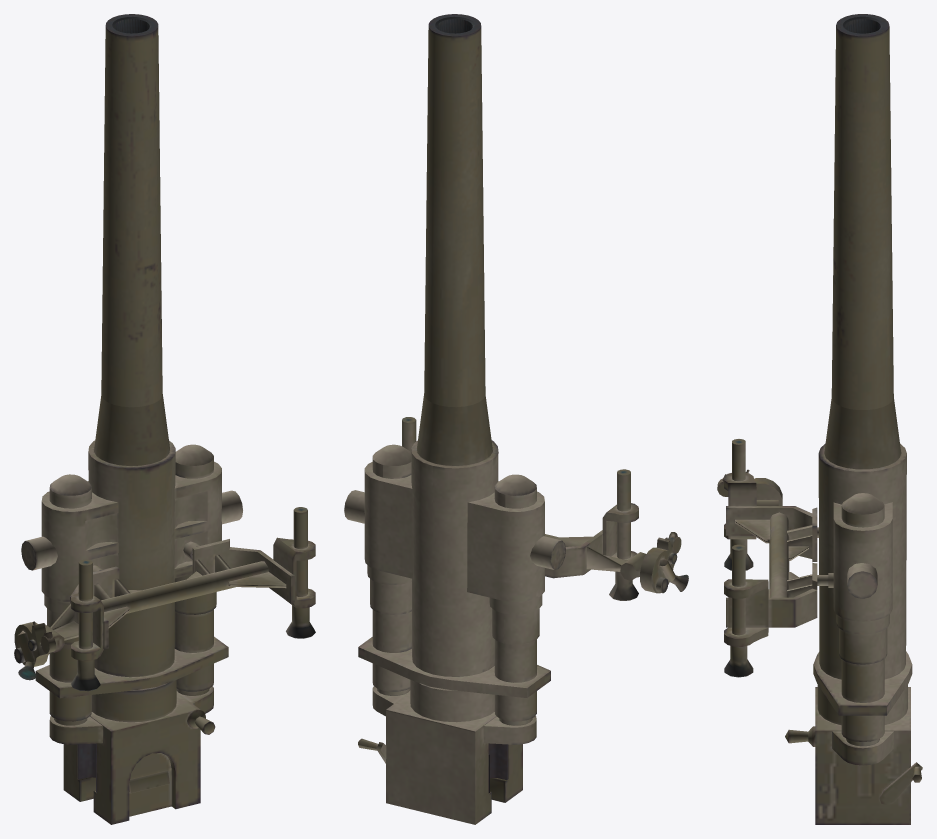
File: Gun_02.glb
3 renders of one model, left to right at view 1: azimuth 30°, elevation 25°; view 2: azimuth 150°, elevation 25°; view 3: azimuth 270°, elevation 25°, orthographic.
Visible parts, largest first — view 1: set_0_group_0; view 2: set_0_group_0; view 3: set_0_group_0.
Part boxes in pixels (x1=…): set_0_group_0: x1=14, y1=14, x2=315, y2=824; set_0_group_0: x1=344, y1=14, x2=688, y2=824; set_0_group_0: x1=717, y1=14, x2=922, y2=824.
Size of the model in its own units: 0.967 by 2.43 by 0.5803.
Materials: 1 (1 with a texture image).
